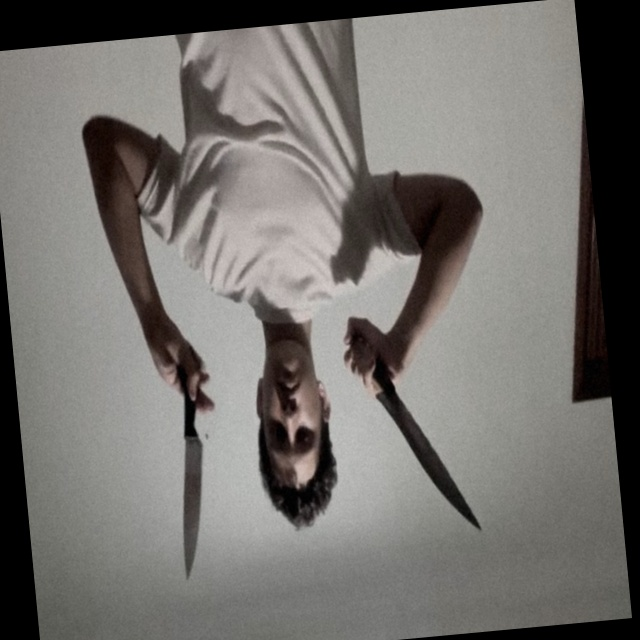Sharp-Object: (378, 385, 481, 537), (172, 443, 215, 583)
